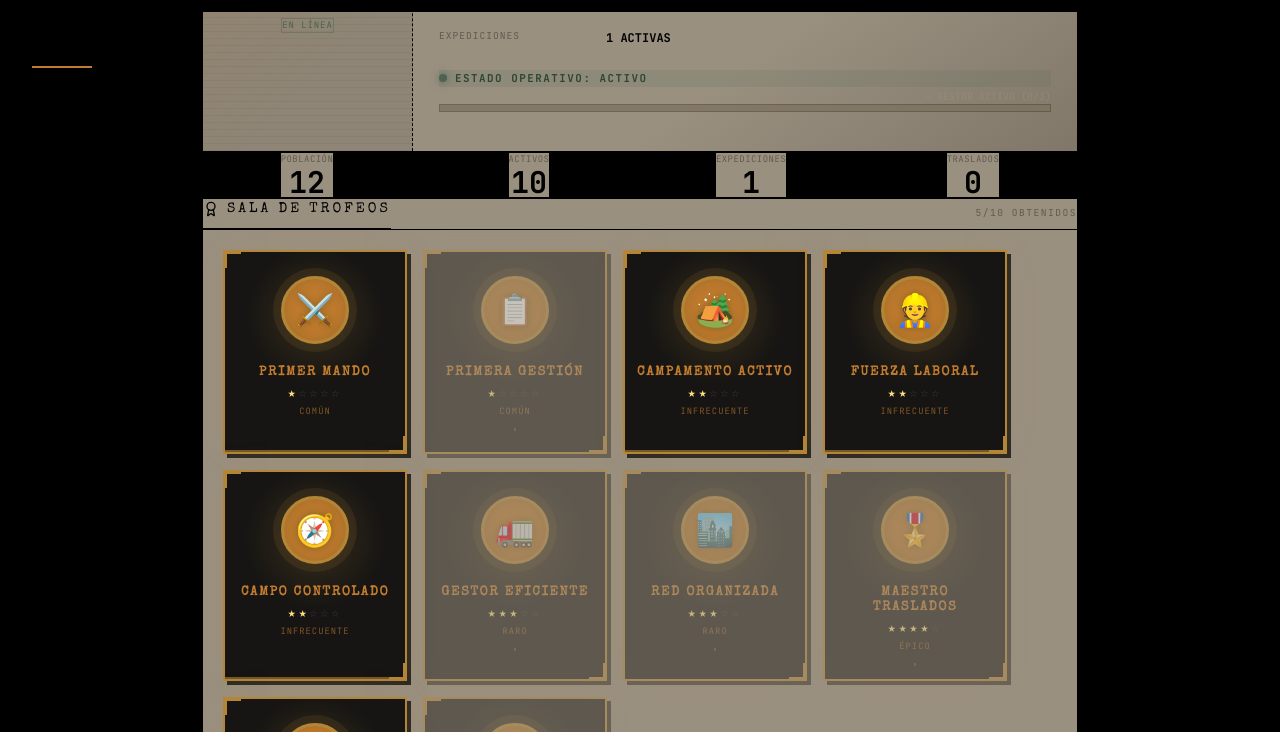
Admin → AdminProfile › shows progress info in modal for a locked trophy
(page scrolled)
Click the text "PRIMERA GESTIÓN": [515, 372] box [446, 365, 584, 380]
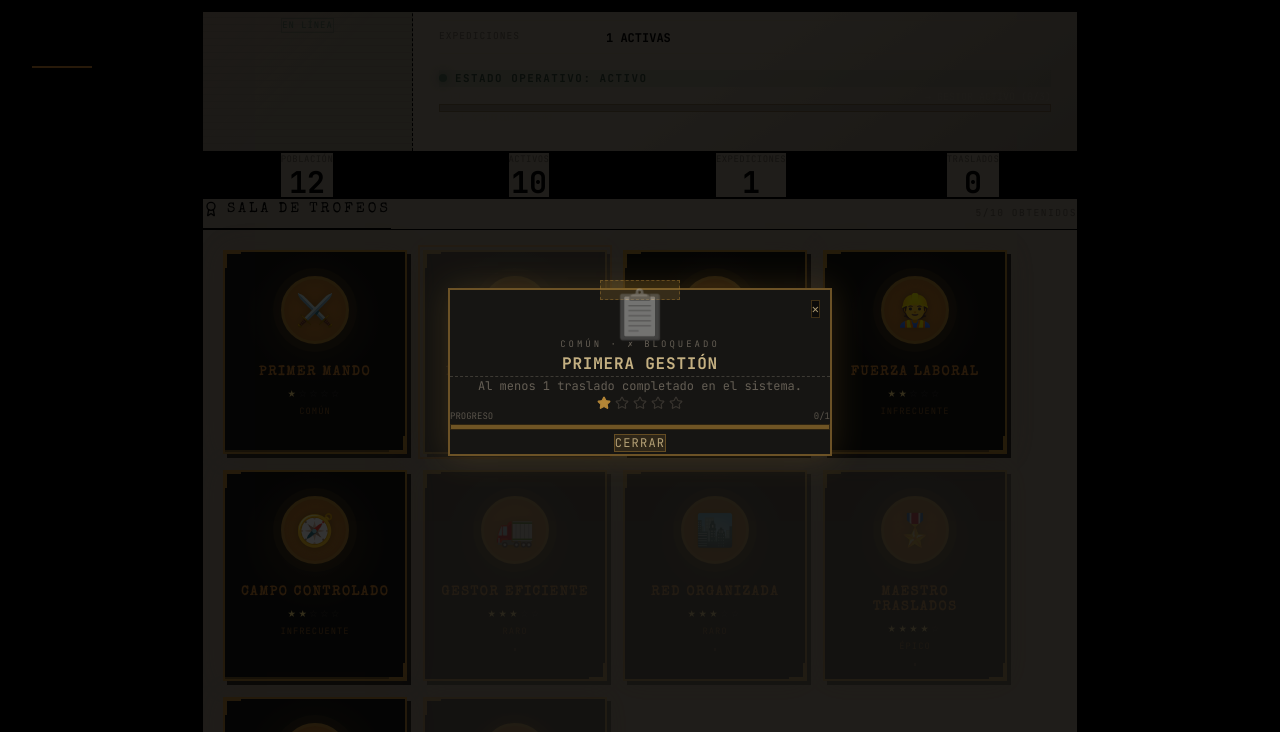
Now the text "PROGRESO" is shown, box [450, 410, 493, 424]
